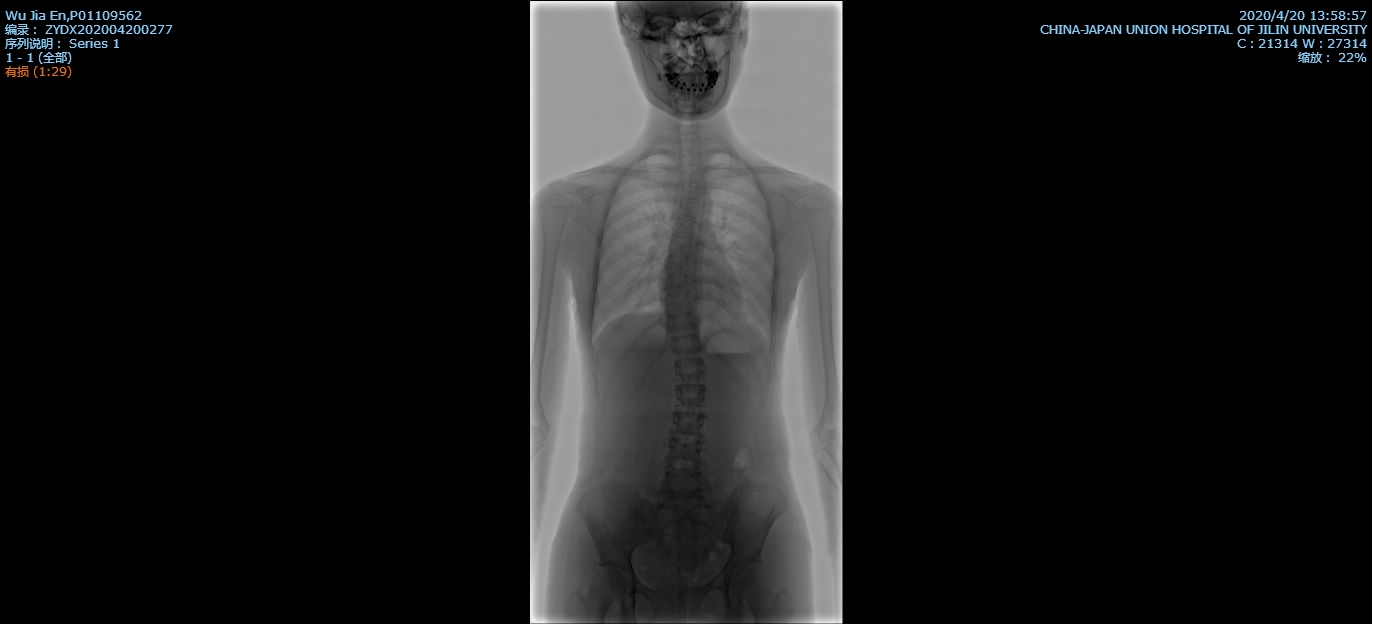Bone: (665, 471, 700, 494), (672, 412, 702, 432), (669, 441, 700, 460), (672, 337, 702, 354), (677, 385, 703, 404), (676, 360, 703, 377), (664, 294, 694, 308), (667, 314, 696, 327), (670, 237, 692, 252), (667, 257, 688, 272), (667, 275, 689, 289), (676, 203, 697, 217), (673, 220, 693, 233)
